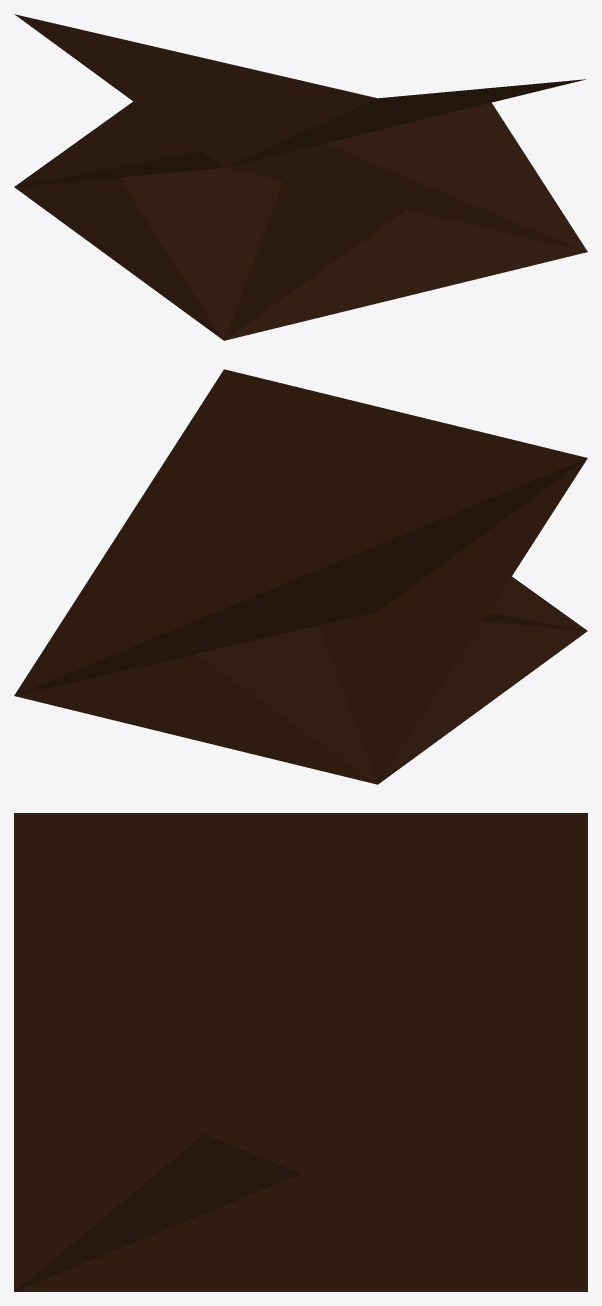
The model's file is Kit_Archi_Roof.fbx.
The picture shows the model from 3 angles, top to bottom: view 1: azimuth 30°, elevation 25°; view 2: azimuth 150°, elevation 25°; view 3: azimuth 270°, elevation 25°; orthographic projection. The views are drawn at different scales.
Visible parts, largest first — view 1: Roof_006, Roof_002, Roof_005, Roof_011, Roof_008, Roof_004, Roof_007, Roof_010; view 2: Roof_004, Roof_002, Roof_005, Roof_011, Roof_006; view 3: Roof_002, Roof_008, Roof_004, Roof_006, Roof_005, Roof_010.
Part boxes in pixels (box(x1,y1,x2,y2)): Roof_006: box(31, 112, 583, 310); Roof_002: box(14, 14, 585, 167); Roof_005: box(14, 101, 587, 340); Roof_011: box(14, 178, 587, 340); Roof_008: box(224, 143, 586, 251); Roof_004: box(15, 90, 461, 186); Roof_007: box(291, 184, 405, 252); Roof_010: box(454, 102, 517, 149); Roof_004: box(14, 448, 587, 784); Roof_002: box(15, 369, 586, 695); Roof_005: box(205, 576, 587, 784); Roof_011: box(378, 621, 587, 784); Roof_006: box(444, 612, 567, 681); Roof_002: box(14, 813, 587, 1291); Roof_008: box(14, 1056, 587, 1291); Roof_004: box(14, 813, 587, 1291); Roof_006: box(104, 1134, 356, 1216); Roof_005: box(14, 1176, 526, 1291); Roof_010: box(205, 1162, 300, 1213).
Bounding box in the file's own units: 300 × 136 × 300.
